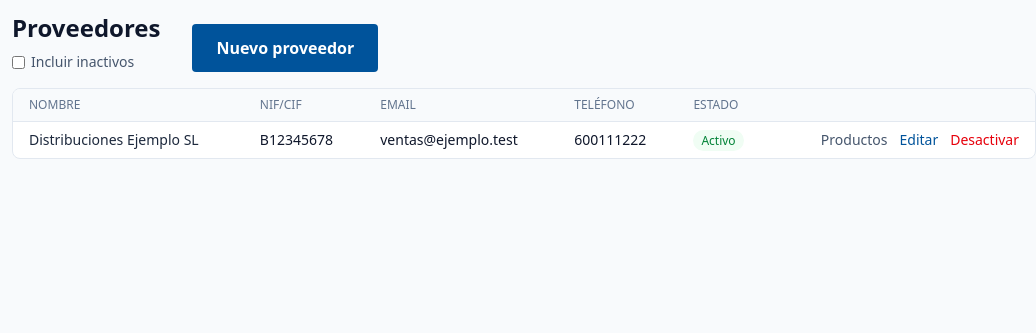
SuppliersPage › links a product to a supplier
Check: the text "Distribuciones Ejemplo SL" is shown, box x1=13 y1=122 x2=244 y2=158
Click the button "Productos" at {"x": 854, "y": 140}, box x1=821 y1=130 x2=888 y2=150
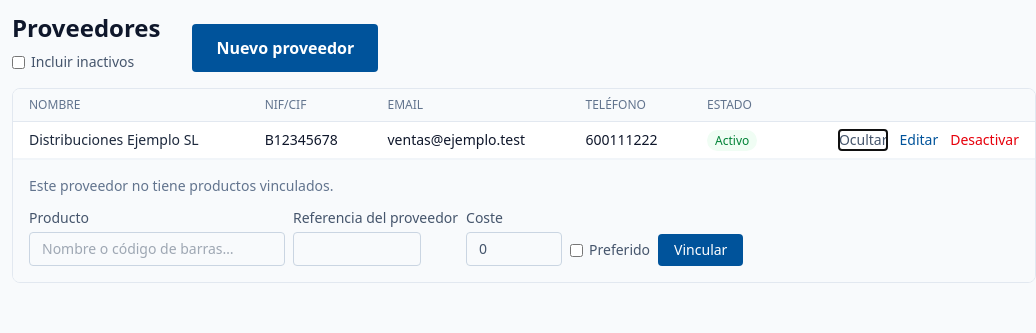
Check: the text "Este proveedor no tiene productos vinculados." is shown, box x1=29 y1=176 x2=334 y2=195
Type "Agua 1.5L" into the field named "Buscar producto" at {"x": 157, "y": 249}, box x1=29 y1=232 x2=285 y2=266
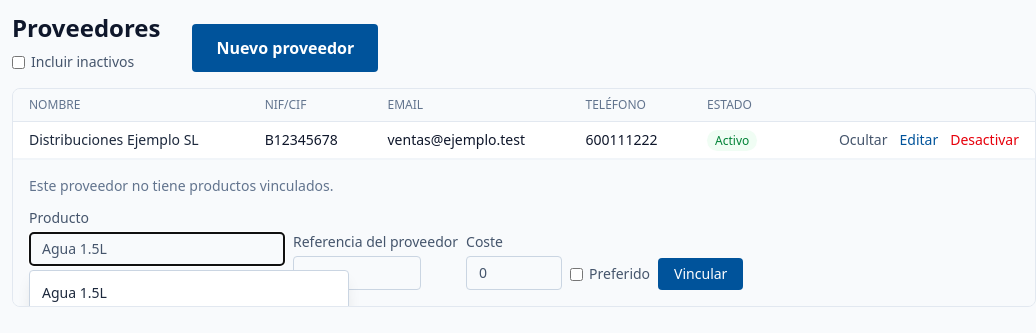
Click the option with aria-label "Seleccionar Agua 1.5L" at {"x": 74, "y": 292}, box x1=30 y1=275 x2=348 y2=311
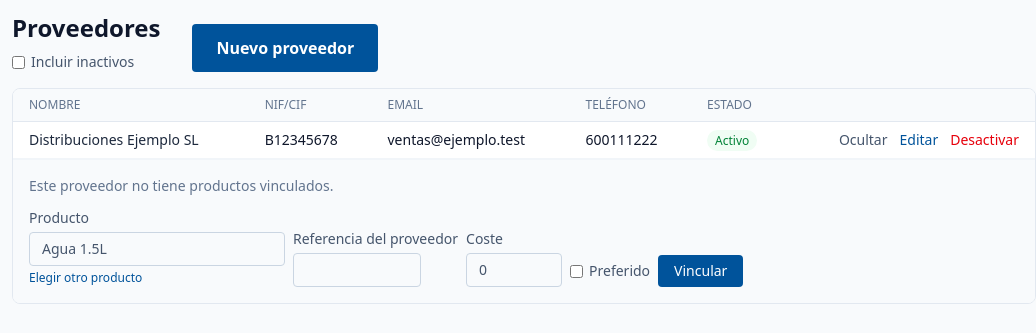
Replace the text in the field labelled "Coste" with "0.45" at {"x": 514, "y": 270}, box x1=466 y1=253 x2=562 y2=287
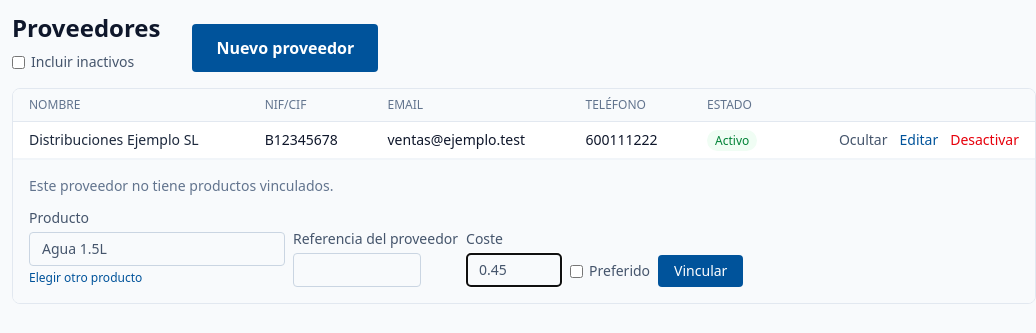
Click the button "Vincular" at {"x": 701, "y": 271}, box x1=658 y1=255 x2=743 y2=287
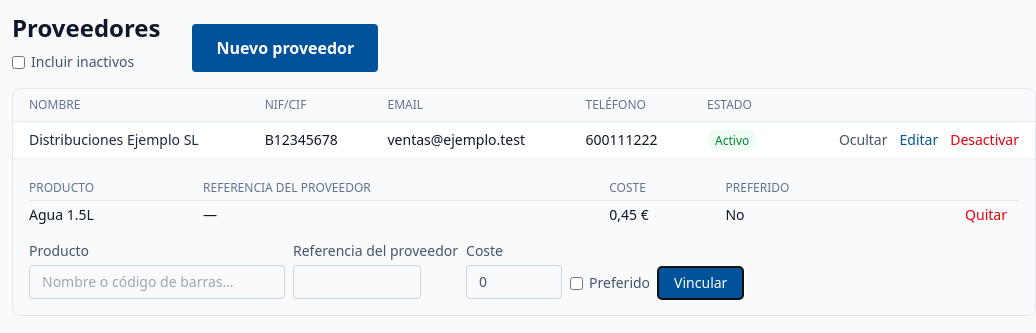
Check: the text "Agua 1.5L" is shown, box x1=29 y1=200 x2=203 y2=229
